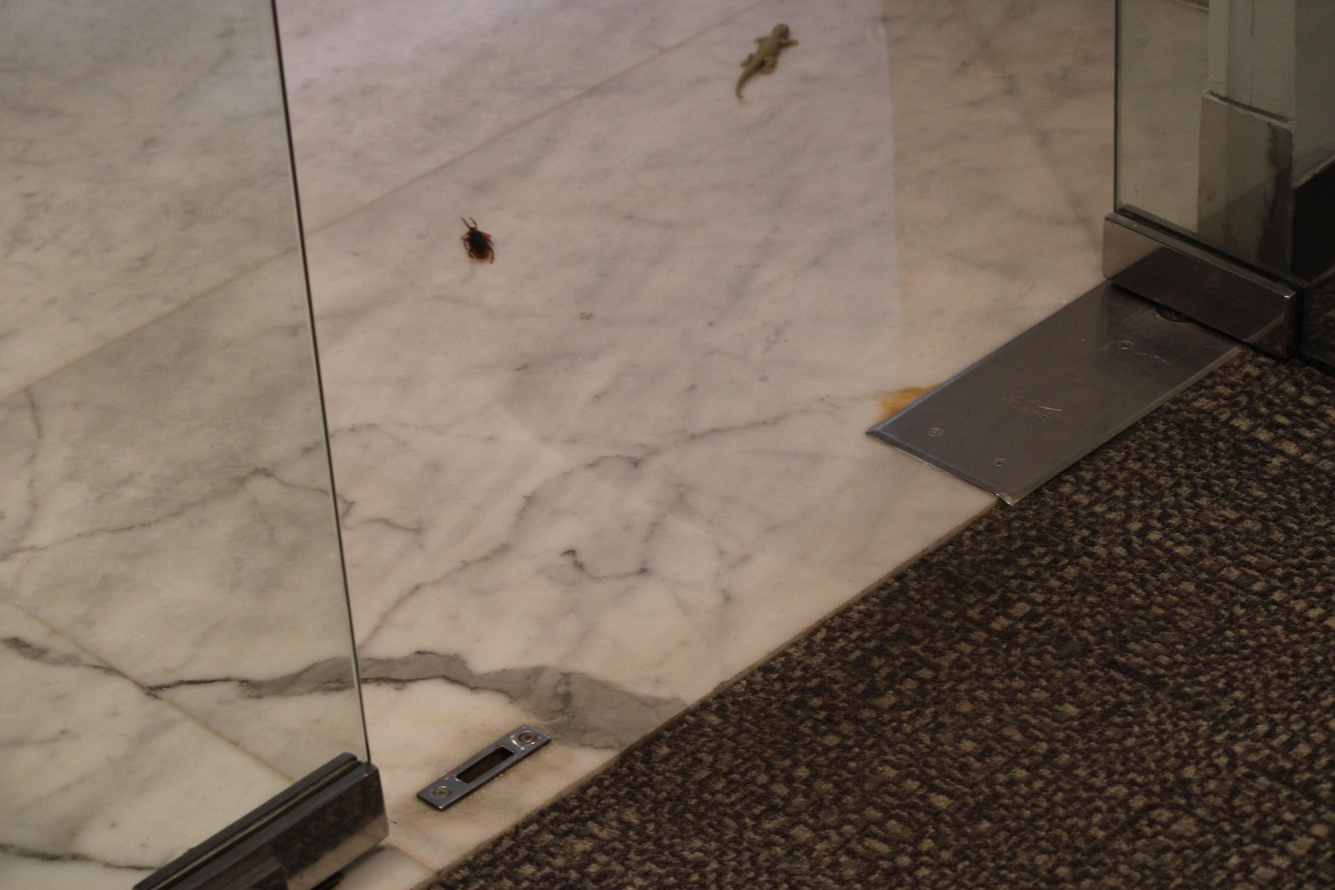cockroach: (452, 214, 501, 265)
lizard: (726, 18, 797, 109)
